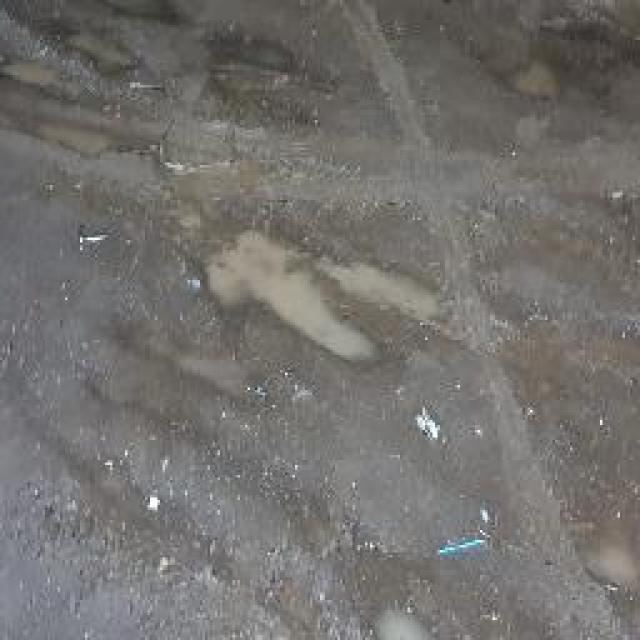waterlogging: (196, 220, 443, 376)
